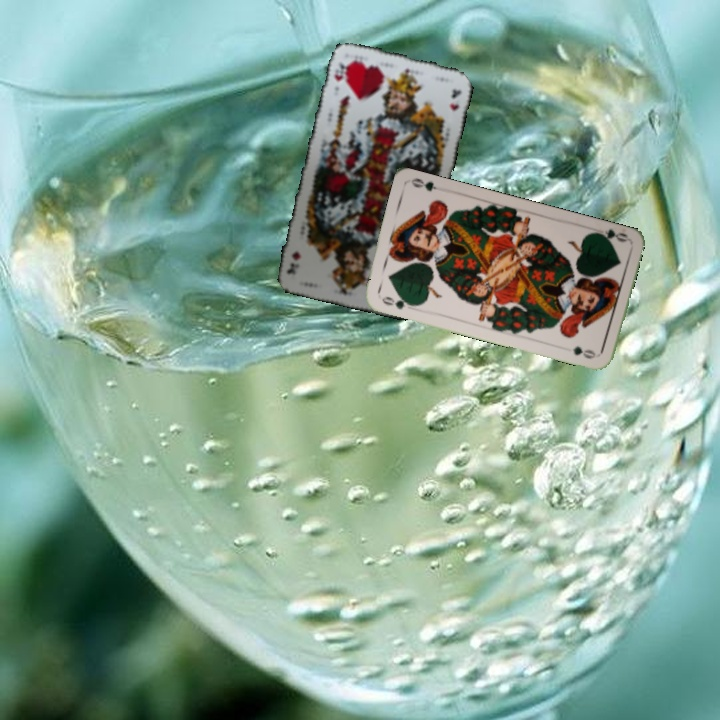GO: (589, 225, 631, 245), (378, 292, 417, 312)
HK: (330, 57, 350, 84)
